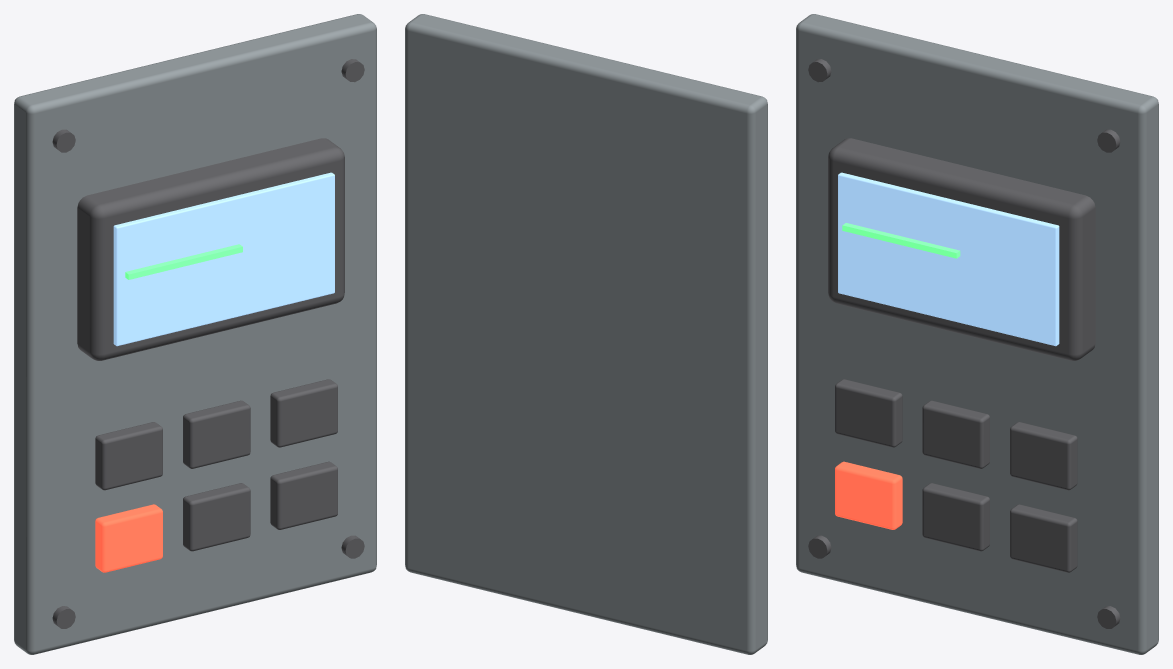
File: prison-complex-builder-door-control-panel-689c600c__25648.glb
3 views of the same model, side by side, from view 1: azimuth 30°, elevation 25°; view 2: azimuth 150°, elevation 25°; view 3: azimuth 330°, elevation 25° (orthographic).
Visible parts, largest first — view 1: door-control-panel; view 2: door-control-panel; view 3: door-control-panel.
Part boxes in pixels (bbox=[...]): door-control-panel: bbox=[14, 14, 376, 654]; door-control-panel: bbox=[405, 14, 767, 654]; door-control-panel: bbox=[796, 14, 1158, 654].
Size of the model in its own units: 0.4 by 0.6 by 0.085.
